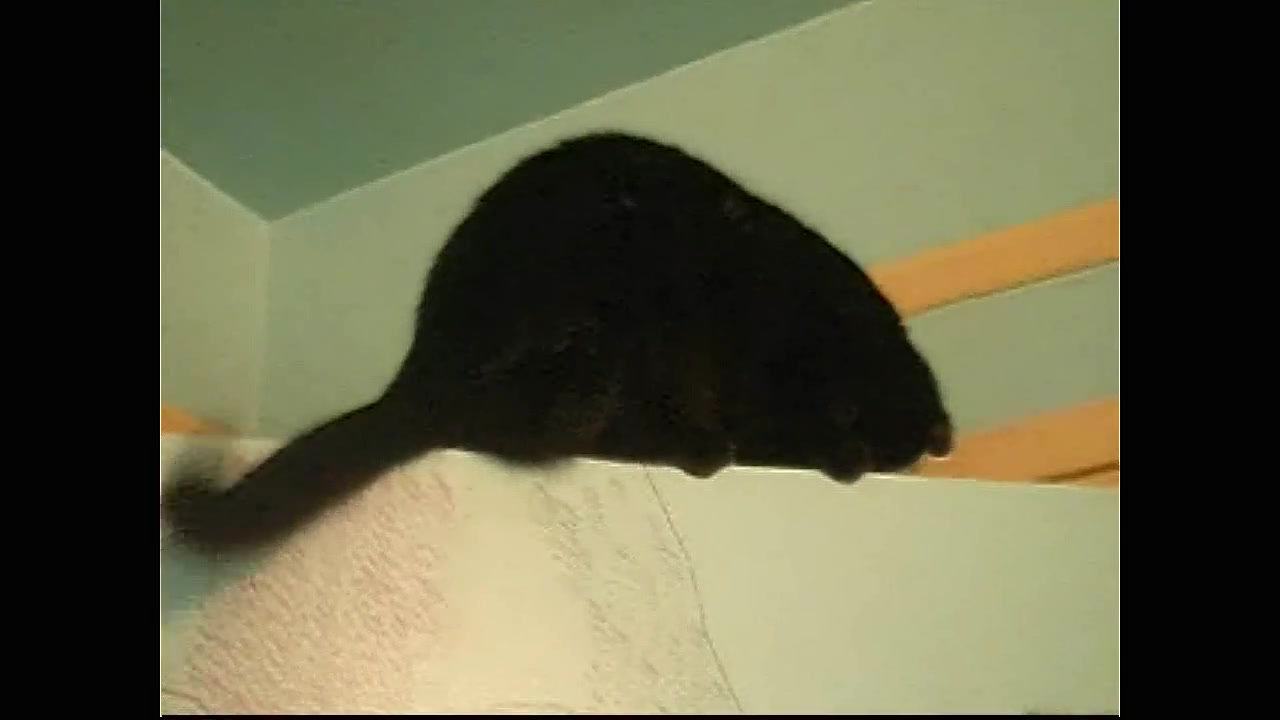cat: (162, 124, 956, 559)
